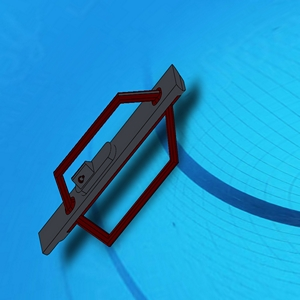submarine: (38, 76, 194, 258)
